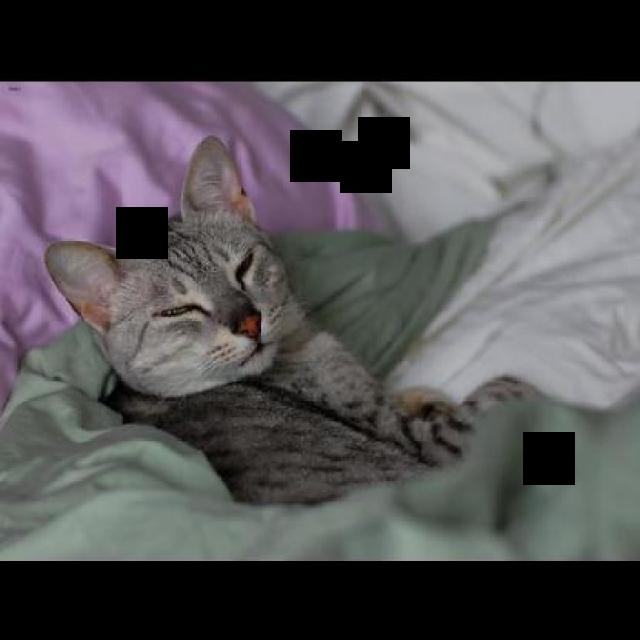unauthorized: (43, 132, 543, 506)
